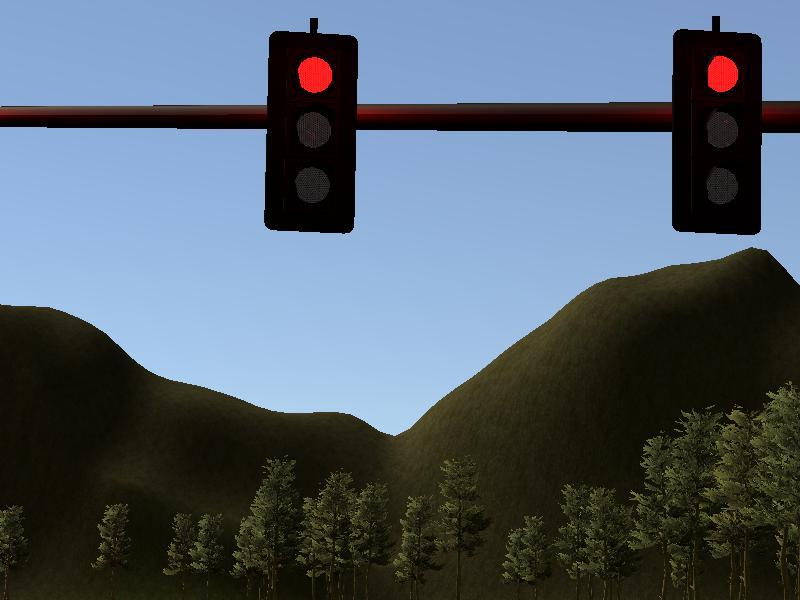Red: (675, 28, 760, 233), (269, 33, 353, 231)
